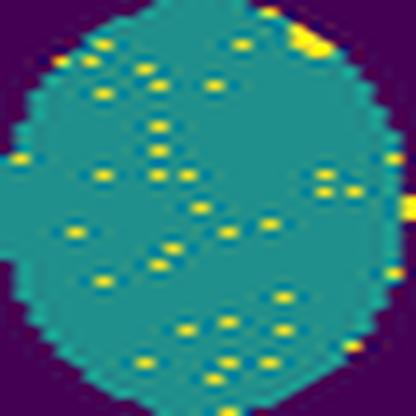Edge-Loc: (287, 23, 335, 62)
